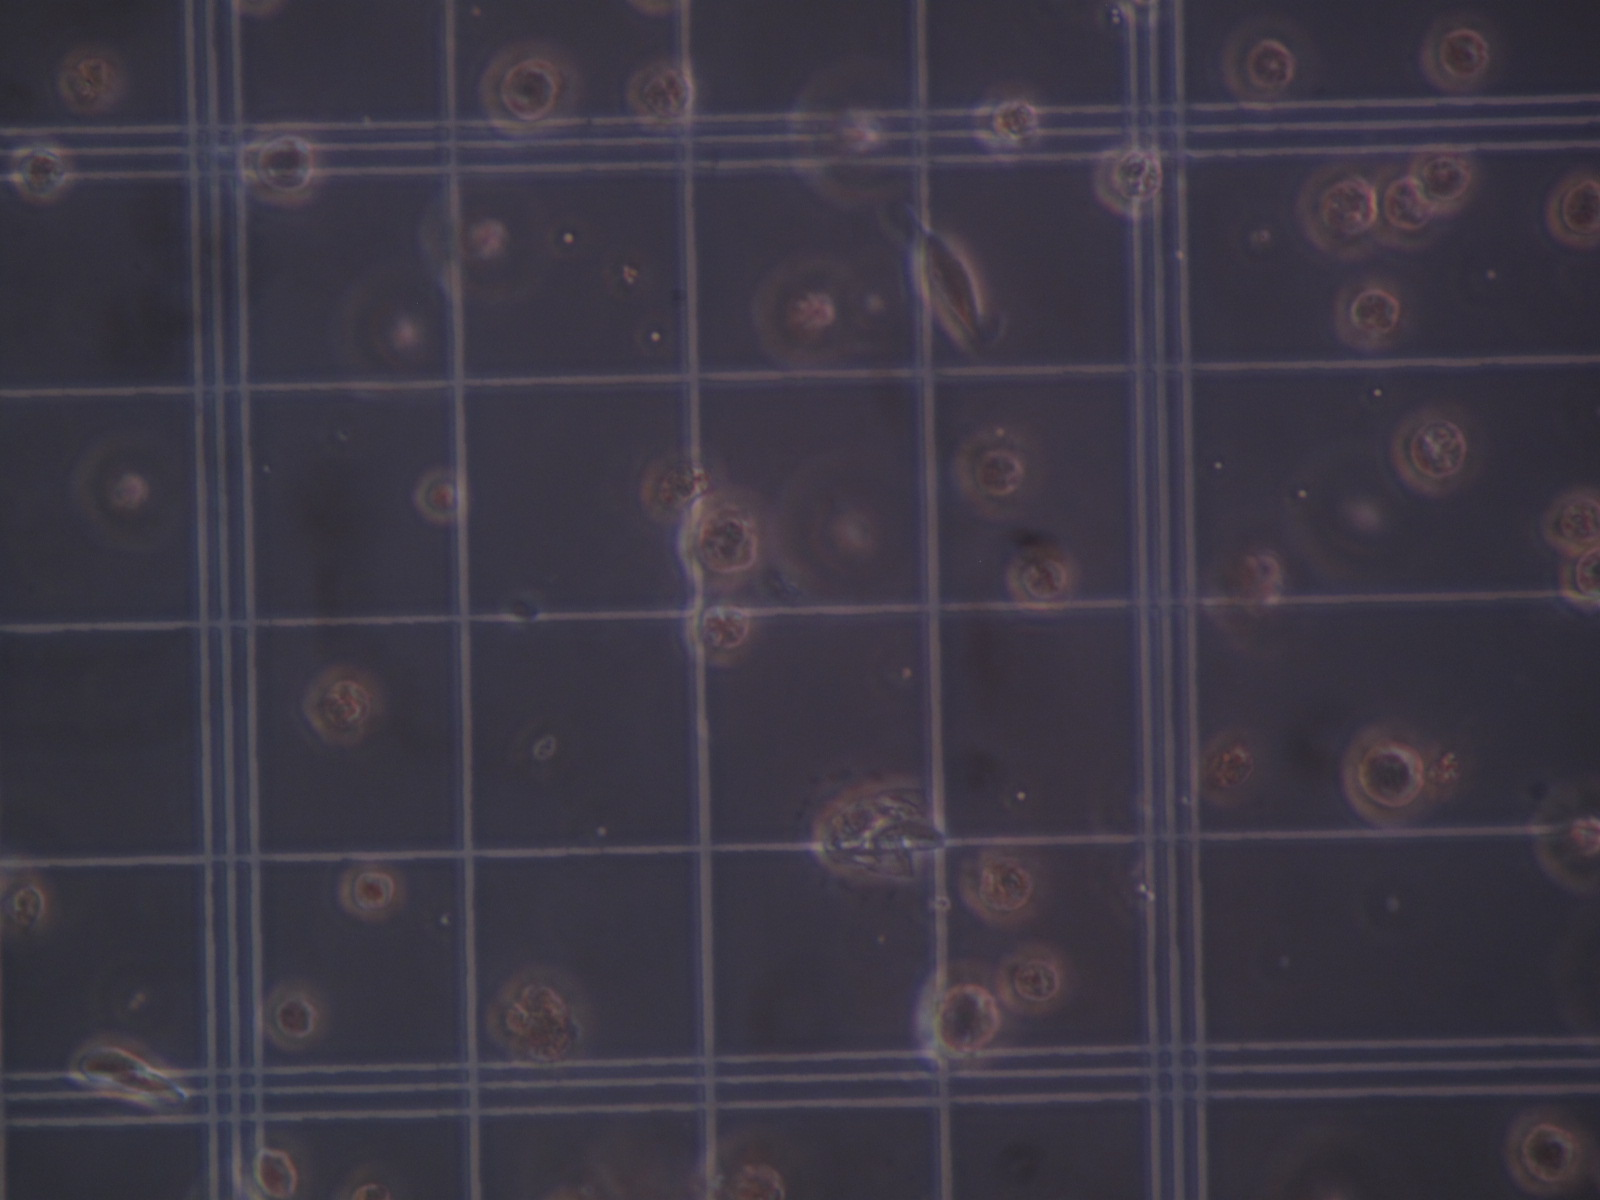hemo: (786, 59, 884, 211), (1342, 720, 1444, 831), (913, 964, 1017, 1066), (1202, 526, 1284, 654), (418, 187, 506, 303), (486, 966, 586, 1068), (752, 252, 840, 366), (72, 1034, 191, 1116), (910, 229, 986, 355), (678, 489, 774, 587), (71, 434, 146, 542), (481, 45, 572, 135), (1225, 19, 1311, 111), (1300, 163, 1378, 260), (1529, 787, 1600, 891), (693, 1128, 794, 1200), (1504, 1108, 1582, 1196), (950, 429, 1023, 519), (305, 667, 386, 749), (248, 110, 319, 203), (1393, 408, 1468, 495), (1369, 164, 1443, 250), (643, 449, 724, 524), (960, 850, 1036, 926), (1420, 21, 1495, 92), (997, 939, 1066, 1015), (625, 62, 695, 134), (683, 592, 751, 666), (263, 979, 328, 1054), (1335, 279, 1402, 349), (1008, 550, 1078, 616), (1545, 165, 1600, 250), (1097, 147, 1163, 217), (975, 89, 1041, 158), (242, 1134, 309, 1200), (1199, 729, 1256, 805), (1411, 142, 1473, 212), (1540, 488, 1600, 558), (338, 863, 404, 921), (59, 48, 120, 110), (8, 142, 71, 200), (1, 872, 50, 937), (413, 468, 467, 521), (1561, 552, 1600, 608)
